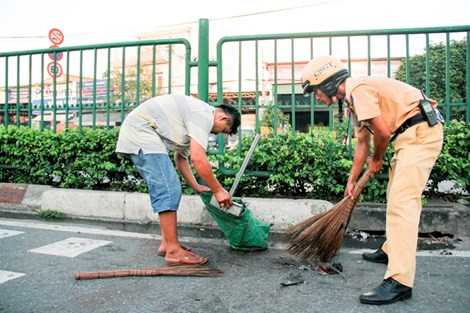police: (283, 53, 451, 306)
